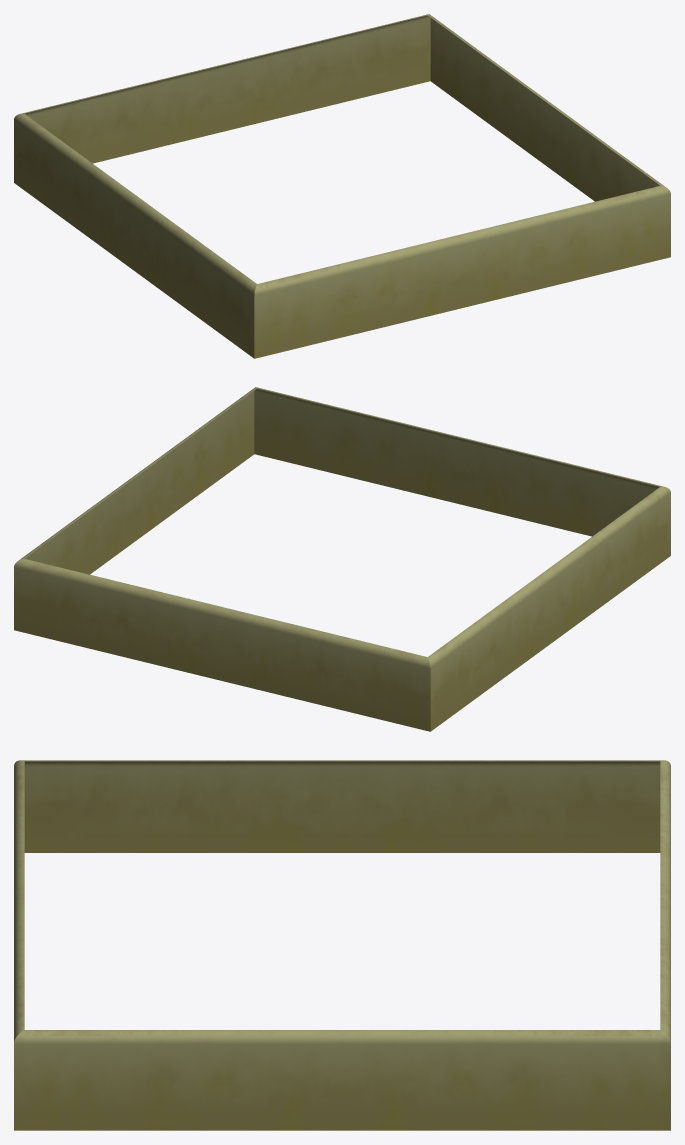
File: ColumnCollider.fbx
The picture shows the model from 3 angles, top to bottom: view 1: azimuth 30°, elevation 25°; view 2: azimuth 150°, elevation 25°; view 3: azimuth 270°, elevation 25°; orthographic projection. The views are drawn at different scales.
Visible parts, largest first — view 1: ColumnCollider; view 2: ColumnCollider; view 3: ColumnCollider.
Part boxes in pixels (bbox=[...]): ColumnCollider: bbox=[14, 14, 670, 358]; ColumnCollider: bbox=[14, 387, 670, 731]; ColumnCollider: bbox=[14, 760, 670, 1130].
Bounding box in the file's own units: 155 × 25 × 155.
